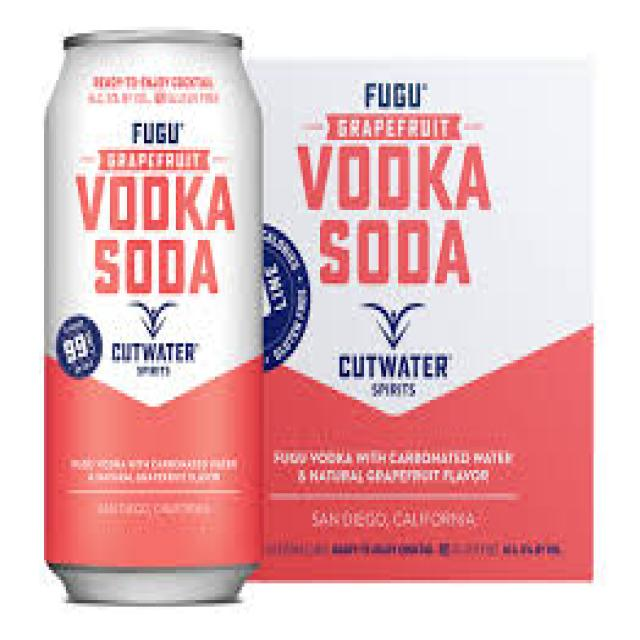Cans: (37, 17, 276, 620)
